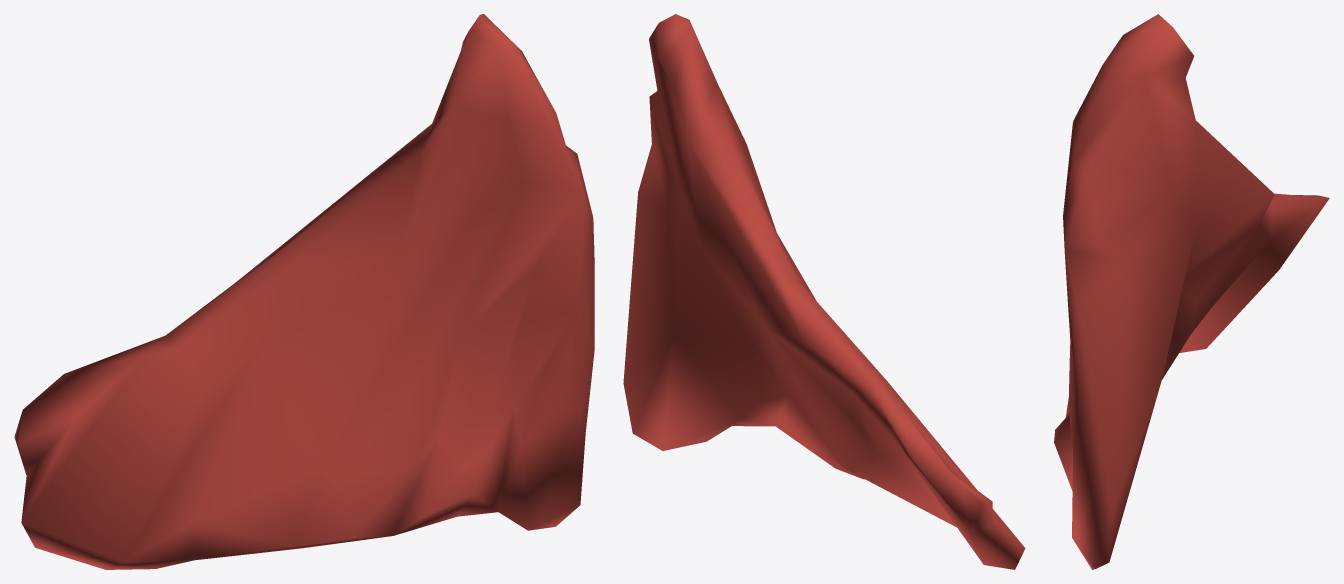
File: musculos-depressor-septi-nasi-r.glb
3 views of the same model, side by side, from view 1: azimuth 30°, elevation 25°; view 2: azimuth 150°, elevation 25°; view 3: azimuth 270°, elevation 25° (orthographic). The views are drawn at different scales.
Visible parts, largest first — view 1: Depressor septi nasi.r; view 2: Depressor septi nasi.r; view 3: Depressor septi nasi.r.
Boxes of the visible parts, x1,y1,x2,y2 form: Depressor septi nasi.r: [14, 14, 594, 569]; Depressor septi nasi.r: [623, 14, 1025, 569]; Depressor septi nasi.r: [1054, 14, 1329, 569].
Bounding box in the file's own units: 0.0166 × 0.0161 × 0.00757.
